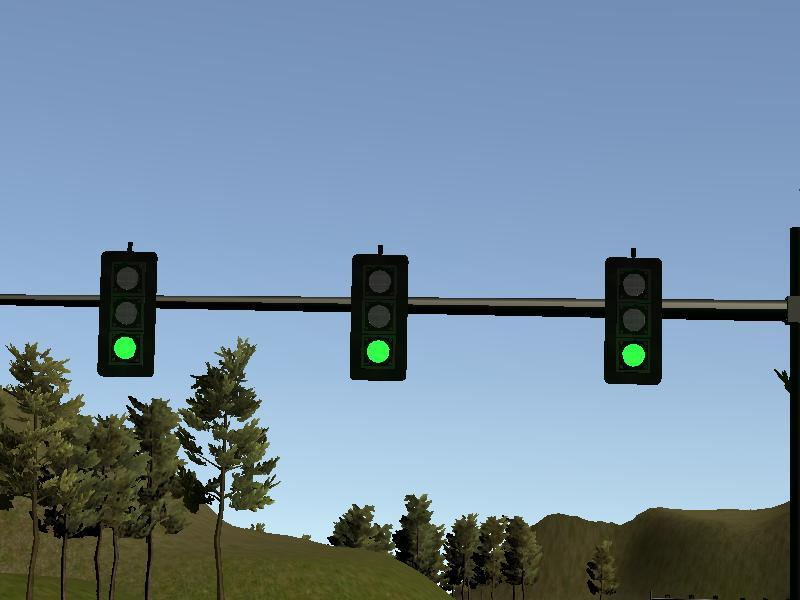Green: (99, 251, 153, 376), (606, 256, 660, 381), (351, 257, 404, 378)
